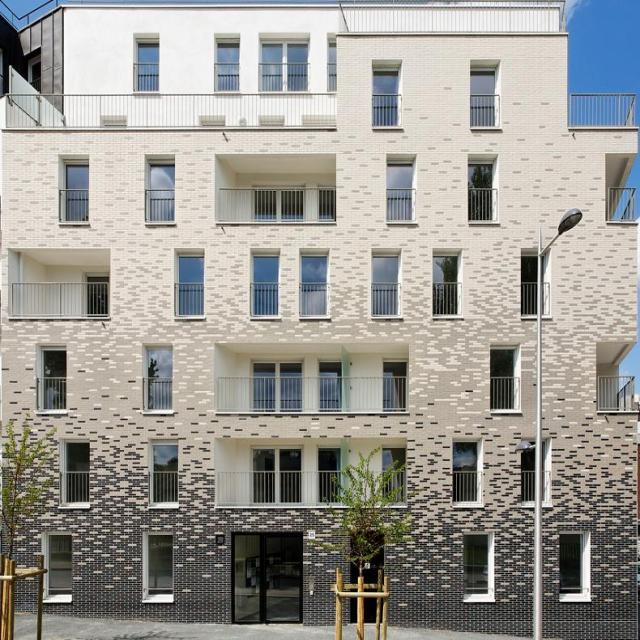Railing: (6, 93, 338, 126), (341, 0, 565, 35), (220, 471, 404, 505), (215, 377, 407, 407), (214, 185, 334, 221), (7, 282, 107, 316), (571, 92, 630, 126), (597, 375, 633, 414), (259, 63, 309, 91), (488, 376, 523, 410), (604, 187, 636, 220), (142, 375, 172, 409), (247, 283, 277, 317), (173, 282, 203, 316), (469, 95, 499, 128), (144, 191, 174, 223), (371, 281, 400, 314), (60, 188, 88, 221), (372, 94, 401, 125), (131, 63, 159, 95), (37, 377, 66, 407), (388, 189, 415, 221), (152, 471, 177, 505), (453, 470, 479, 502), (300, 284, 326, 316), (433, 284, 458, 314), (64, 472, 88, 502), (470, 191, 494, 221), (521, 284, 544, 315), (214, 62, 239, 90), (521, 472, 546, 499), (327, 64, 337, 90)
door: (230, 527, 303, 620)
plant: (316, 446, 408, 568), (4, 416, 58, 538)
wall: (2, 0, 637, 640)
windows: (558, 532, 586, 593), (463, 532, 490, 595), (147, 534, 172, 594), (48, 533, 69, 594), (251, 447, 303, 471), (259, 41, 308, 64), (254, 358, 302, 376), (64, 440, 90, 471), (370, 255, 398, 282), (432, 254, 458, 283), (252, 255, 278, 284), (174, 256, 203, 282), (467, 160, 493, 189), (40, 349, 66, 377), (489, 349, 516, 375), (151, 445, 178, 471), (147, 163, 173, 190), (469, 69, 496, 95), (144, 350, 173, 374), (453, 442, 478, 469), (302, 256, 325, 284), (386, 163, 410, 189), (64, 164, 87, 190), (374, 70, 397, 94), (522, 445, 542, 471), (318, 449, 338, 472), (217, 44, 240, 64), (522, 256, 538, 284), (383, 448, 404, 469), (383, 360, 410, 376), (139, 42, 158, 62), (318, 362, 342, 377), (329, 40, 336, 66)
